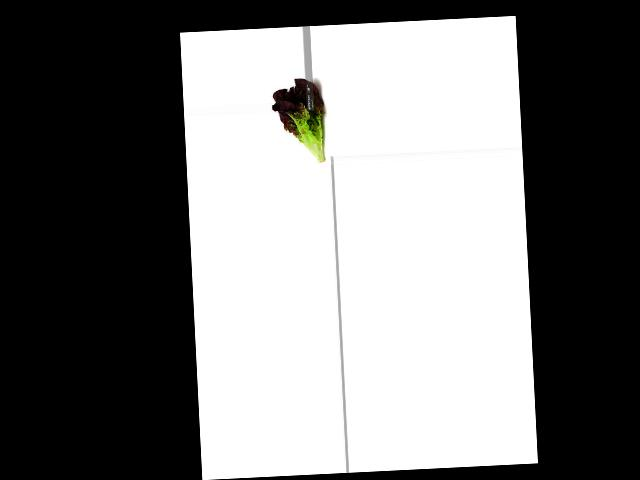lettuce: (270, 75, 330, 168)
